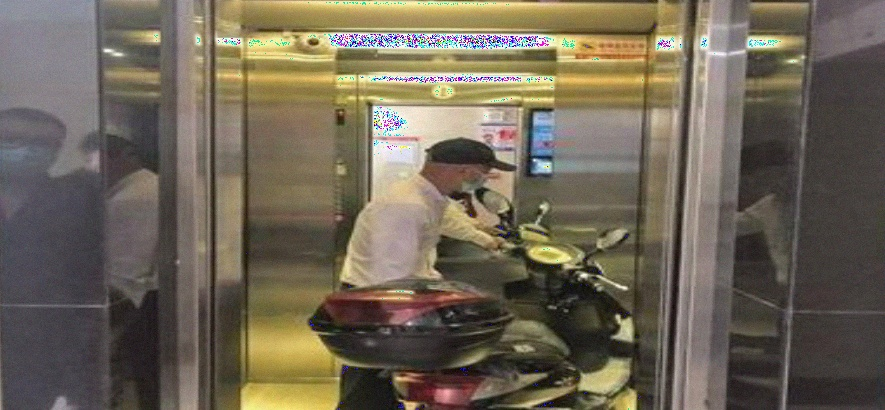ebike: (310, 186, 639, 410)
person: (333, 136, 520, 292)
